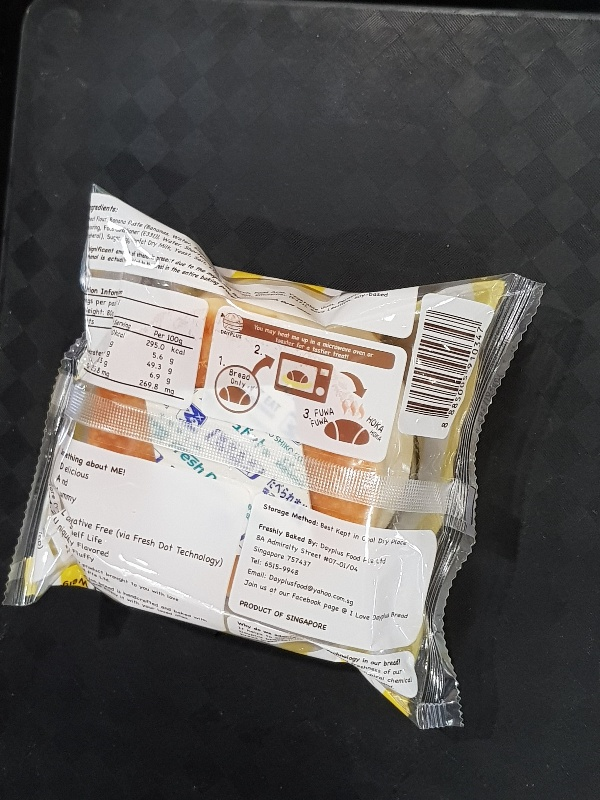Dayplus Banana: (6, 183, 548, 730)
